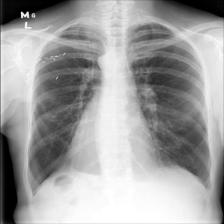normal: (24, 21, 215, 201)
